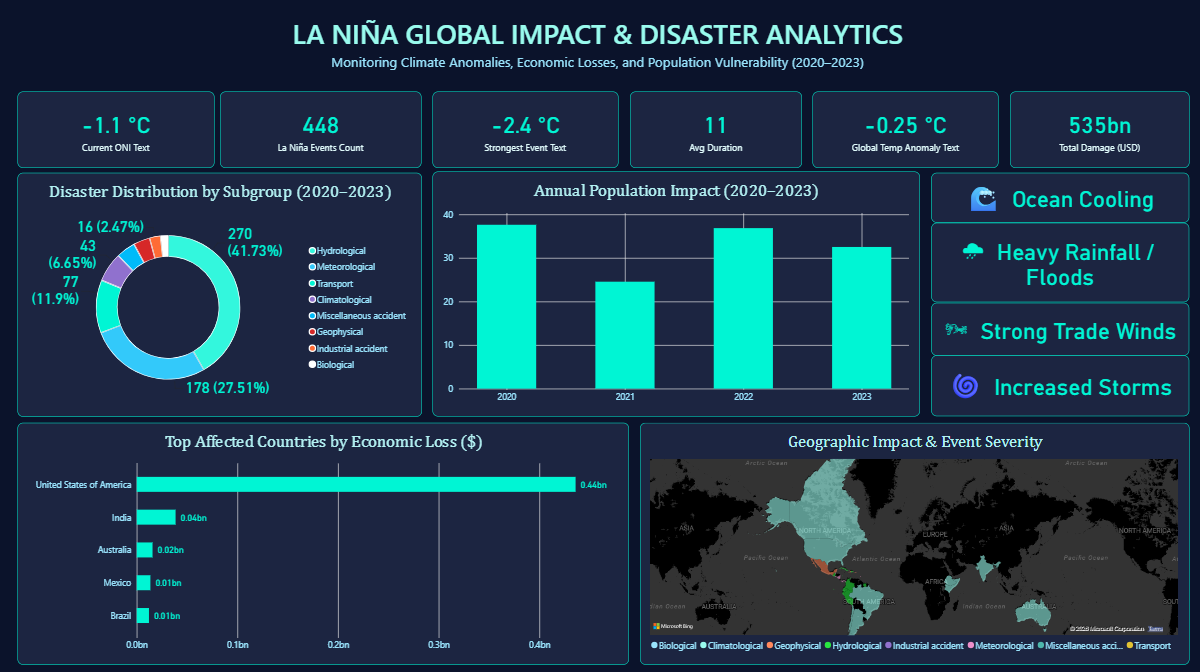

This screenshot's page, from the dashboard's own definition file:
{"tool":"powerbi","page":{"name":"LA NIÑA","canvas":[1920,1080],"ordinal":1},"visuals":[{"type":"card","fields":{"Values":["EM-DAT Data.La Niña Events Count"]},"box":[352.5,147.5,322.5,122.5],"z":0},{"type":"card","fields":{"Values":["EM-DAT Data.Strongest Event Text"]},"box":[692.5,147.5,297.5,122.5],"z":1000},{"type":"card","fields":{"Values":["EM-DAT Data.Current ONI Text"]},"box":[27.5,147.5,315,122.5],"z":2000},{"type":"card","fields":{"Values":["EM-DAT Data.Avg Duration"]},"box":[1007.5,147.5,275,122.5],"z":3000},{"type":"card","fields":{"Values":["EM-DAT Data.Global Temp Anomaly Text"]},"box":[1300,147.5,297.5,122.5],"z":4000},{"type":"card","fields":{"Values":["EM-DAT Data.Total Damage (USD)"]},"box":[1615,147.5,287.5,122.5],"z":5000},{"type":"donutChart","title":"Disaster Distribution by Subgroup (2020–2023)","fields":{"Category":["EM-DAT Data.Disaster Subgroup"],"Y":["EM-DAT Data.Total Events"]},"box":[27.5,277.5,647.5,390],"z":6000},{"type":"clusteredColumnChart","title":"Annual Population Impact (2020–2023)","fields":{"Category":["EM-DAT Data.Start Year"],"Y":["EM-DAT Data.Total Affected (M)"]},"box":[692.2,276.4,779.7,392.2],"z":7000},{"type":"clusteredBarChart","title":"Top Affected Countries by Economic Loss ($)","fields":{"Category":["EM-DAT Data.Country"],"Y":["Sum(EM-DAT Data.Total Damage ('000 US$))"]},"box":[28.4,678.1,978.1,387.5],"z":8000},{"type":"filledMap","title":"Geographic Impact & Event Severity","fields":{"Category":["EM-DAT Data.Country"],"Series":["EM-DAT Data.Disaster Subgroup"]},"box":[1023,678.1,878.9,387.5],"z":9000},{"type":"card","fields":{"Values":["EM-DAT Data.Icon Ocean Cooling"]},"box":[1490,277.5,412.5,80],"z":10000},{"type":"card","fields":{"Values":["EM-DAT Data.Icon Heavy Rainfall"]},"box":[1490,357.5,412.5,127.5],"z":11000},{"type":"card","fields":{"Values":["EM-DAT Data.Icon Strong Winds"]},"box":[1490,485,412.5,85],"z":12000},{"type":"card","fields":{"Values":["EM-DAT Data.Icon Storms"]},"box":[1490,570,412.5,97.5],"z":13000},{"type":"textbox","title":"LA NIÑA GLOBAL IMPACT & DISASTER ANALYTICS","box":[10,25,1892.5,122.5],"z":14000}]}

Visuals, with their boxes in screenshot pixels (x1, y1, x2, y2), scaled from the page's 1920x1080 canvas onto the 1200x672 screenshot:
card - EM-DAT Data.La Niña Events Count: BBox(220, 92, 422, 168)
card - EM-DAT Data.Strongest Event Text: BBox(433, 92, 619, 168)
card - EM-DAT Data.Current ONI Text: BBox(17, 92, 214, 168)
card - EM-DAT Data.Avg Duration: BBox(630, 92, 802, 168)
card - EM-DAT Data.Global Temp Anomaly Text: BBox(812, 92, 998, 168)
card - EM-DAT Data.Total Damage (USD): BBox(1009, 92, 1189, 168)
"Disaster Distribution by Subgroup (2020–2023)" donutChart: BBox(17, 173, 422, 415)
"Annual Population Impact (2020–2023)" clusteredColumnChart: BBox(433, 172, 920, 416)
"Top Affected Countries by Economic Loss ($)" clusteredBarChart: BBox(18, 422, 629, 663)
"Geographic Impact & Event Severity" filledMap: BBox(639, 422, 1189, 663)
card - EM-DAT Data.Icon Ocean Cooling: BBox(931, 173, 1189, 222)
card - EM-DAT Data.Icon Heavy Rainfall: BBox(931, 222, 1189, 302)
card - EM-DAT Data.Icon Strong Winds: BBox(931, 302, 1189, 355)
card - EM-DAT Data.Icon Storms: BBox(931, 355, 1189, 415)
"LA NIÑA GLOBAL IMPACT & DISASTER ANALYTICS" textbox: BBox(6, 16, 1189, 92)
